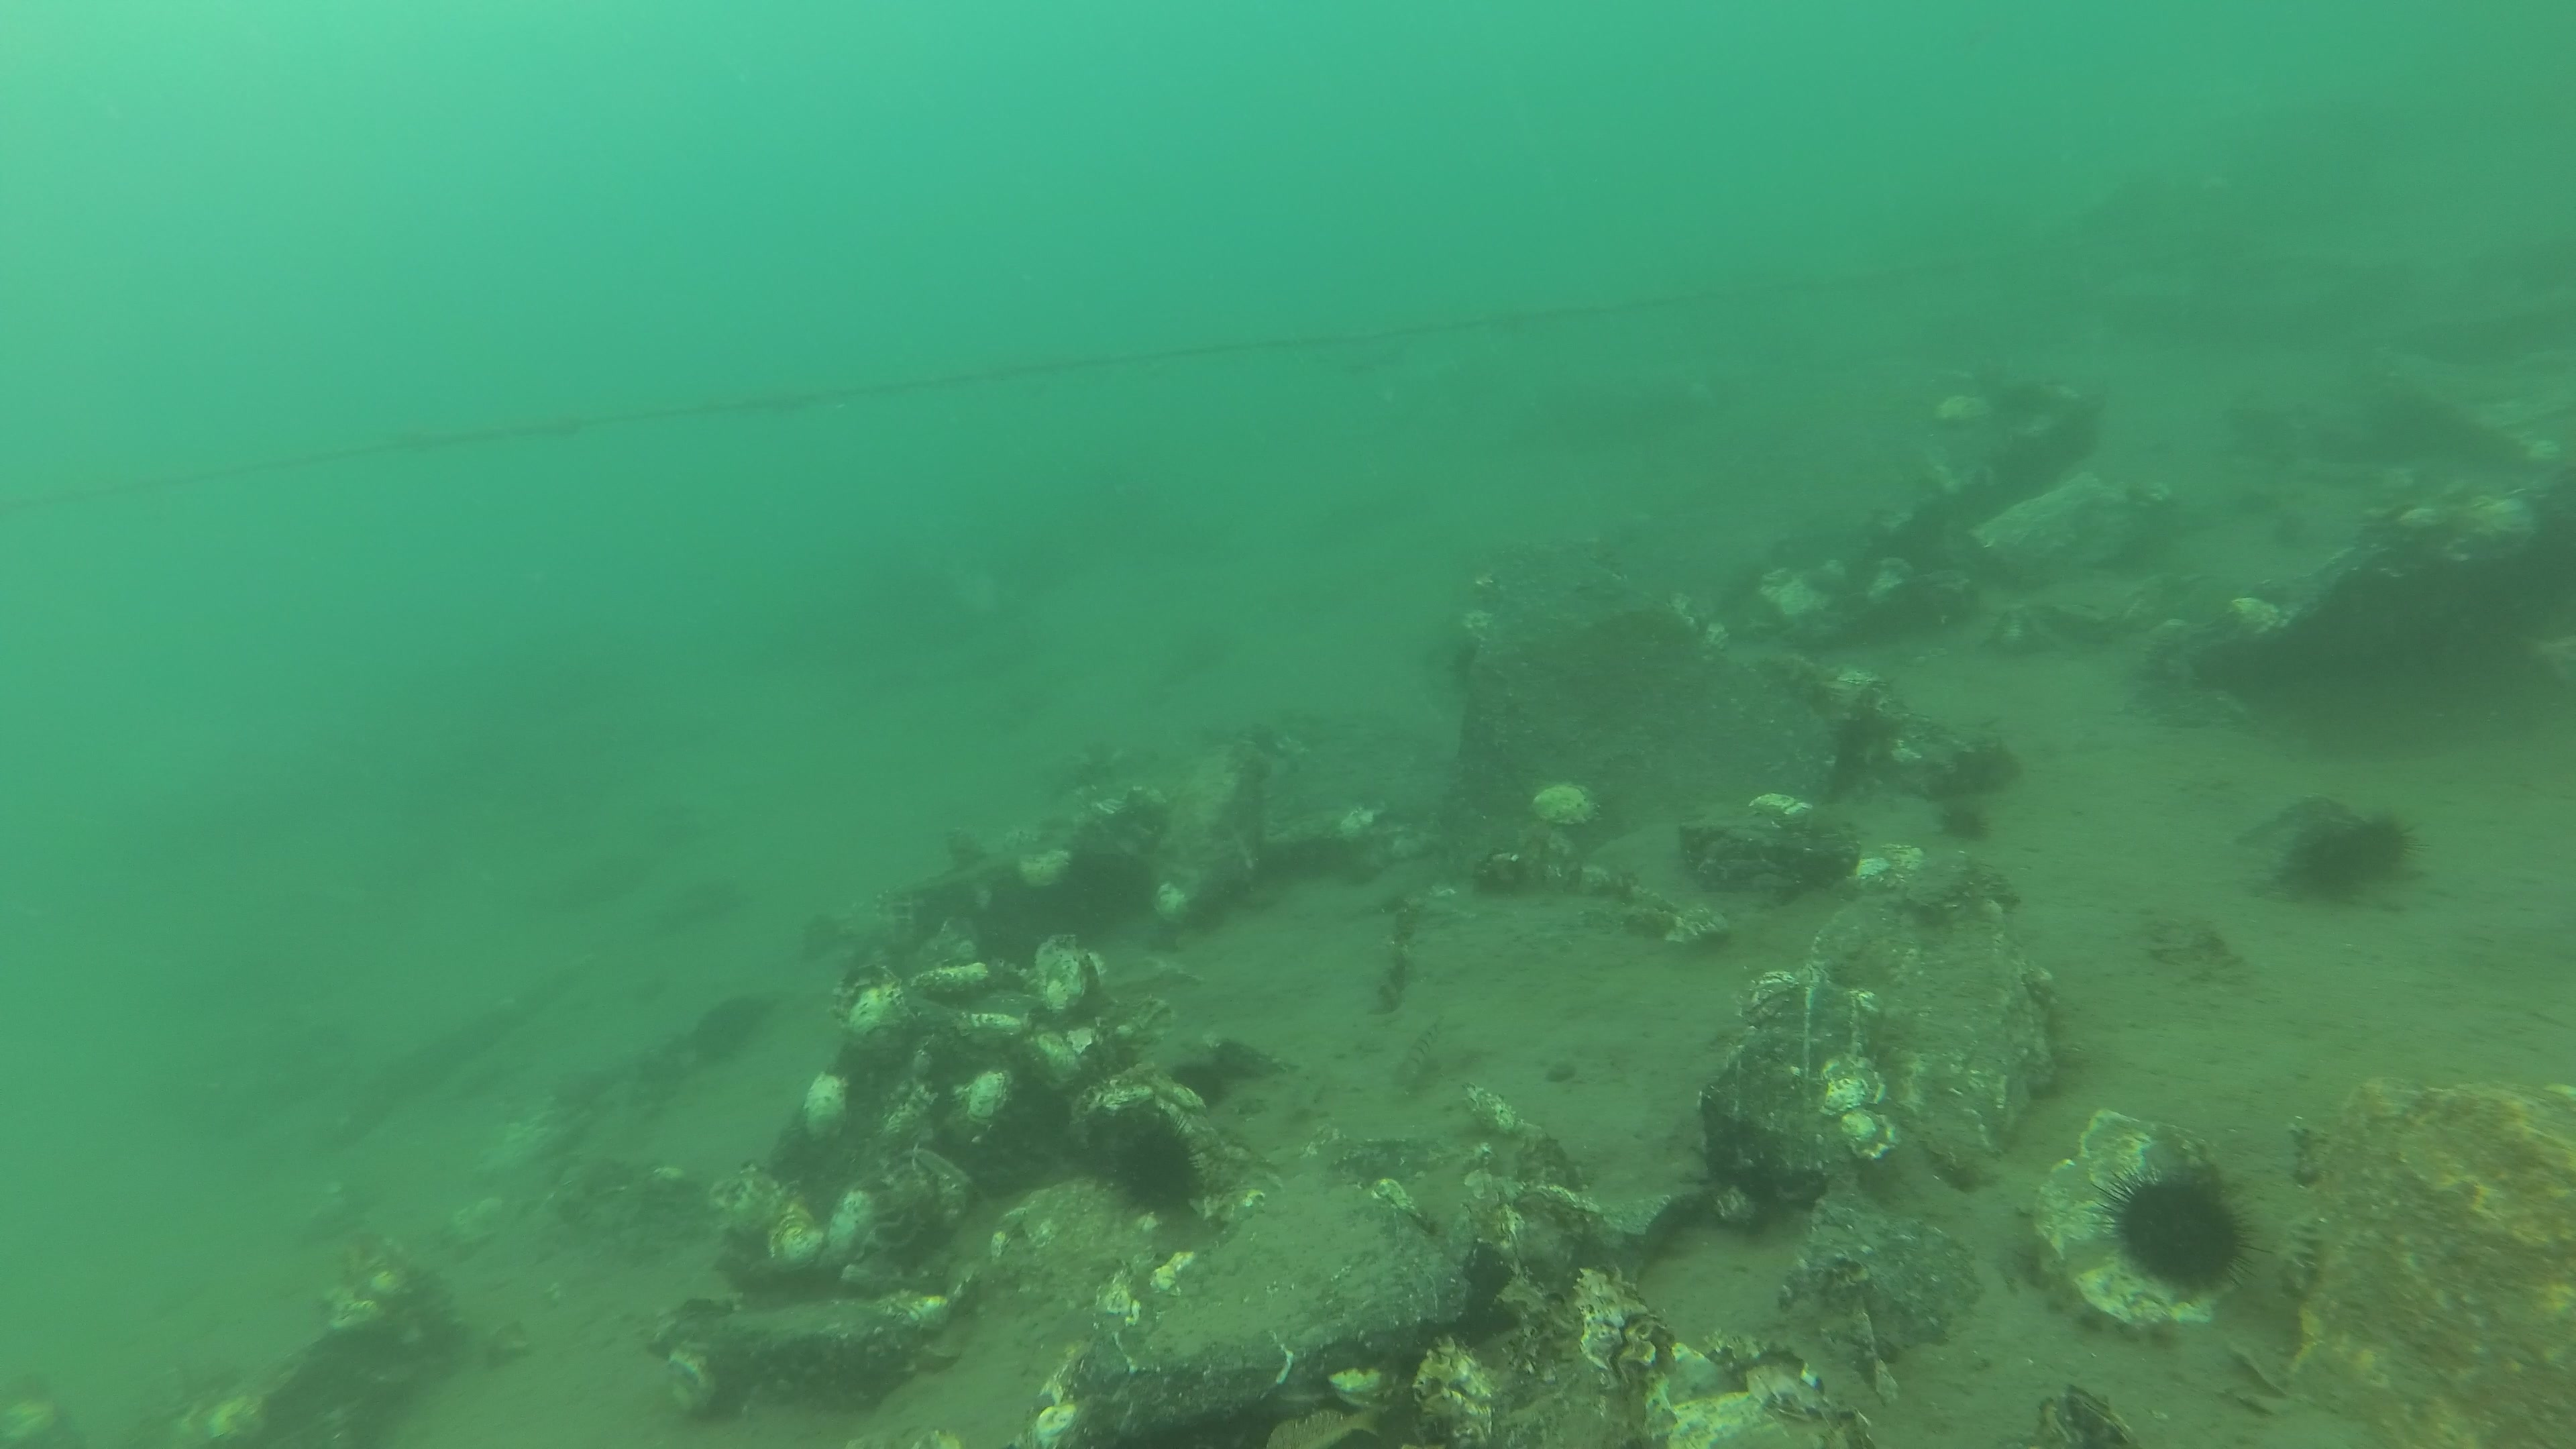echinus: (2079, 1159, 2277, 1293), (1106, 1108, 1203, 1215), (2298, 826, 2367, 904), (2357, 817, 2433, 874), (1169, 1063, 1224, 1108), (1939, 805, 1997, 842)
